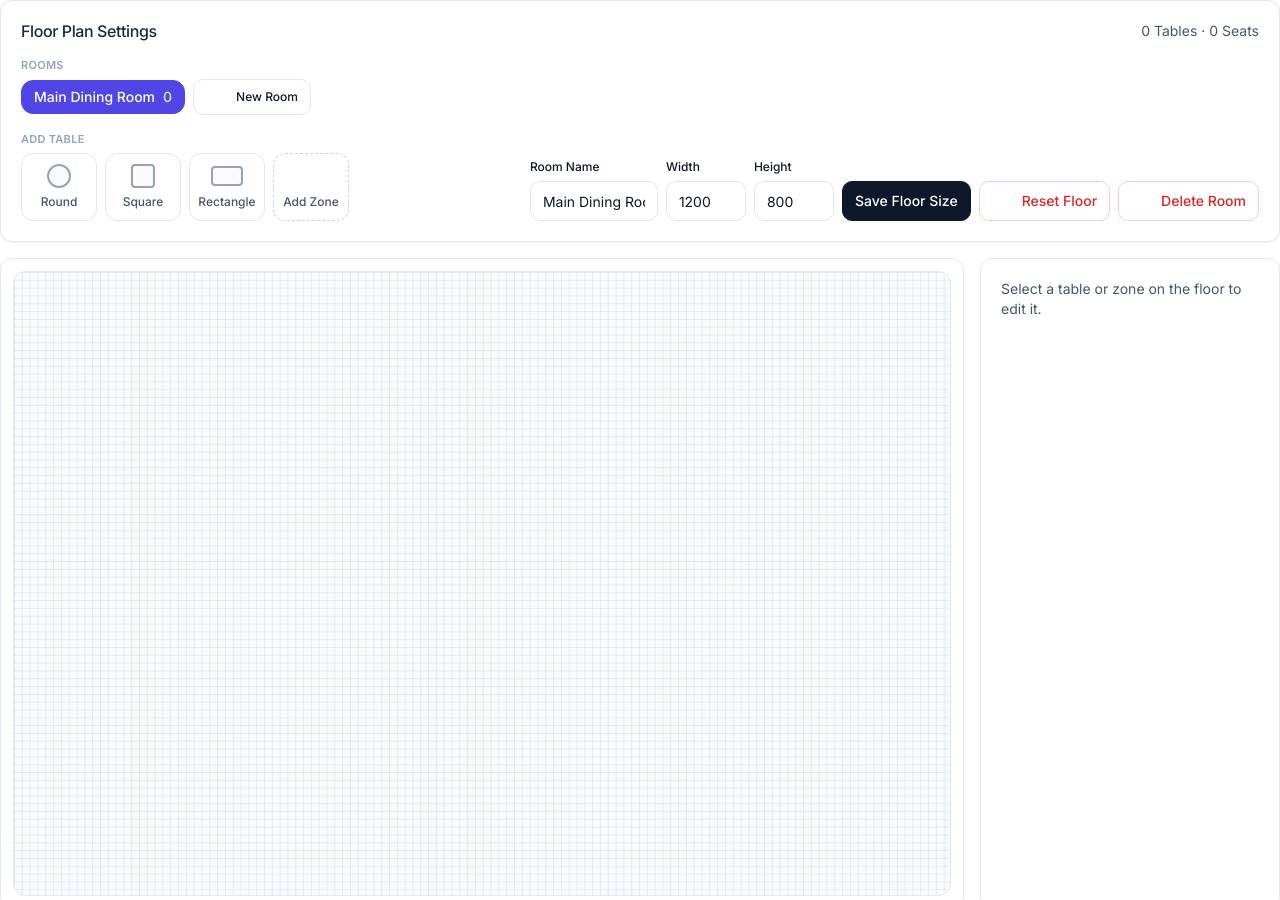
Test: rooms › renames and resizes a room together
The width and height of the screenshot is (1280, 900).
Replace the text in the field labelled "Room Name" with "Patio" at (594, 201), box [530,181,658,221]
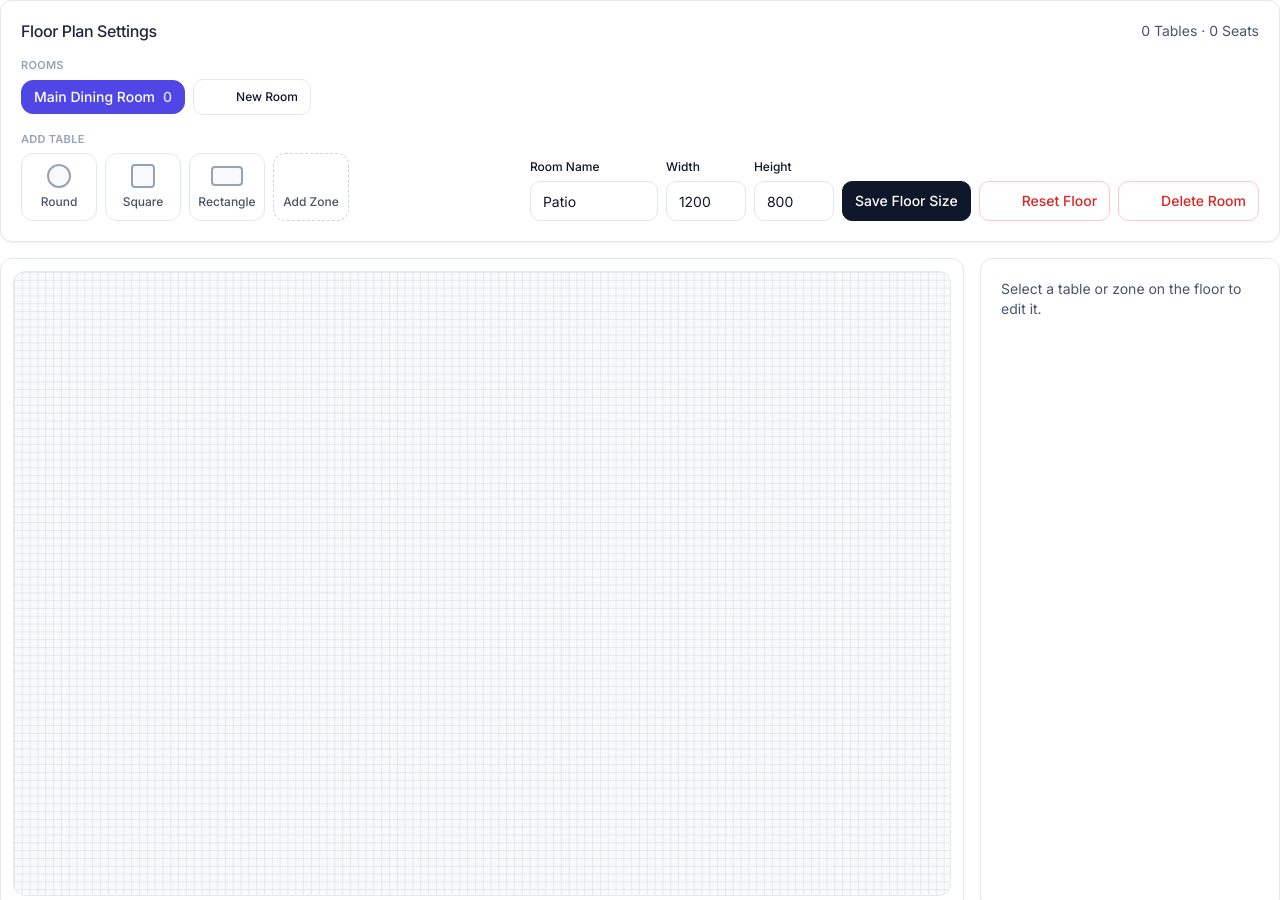
Replace the text in the number field labelled "Width" with "1400" at (706, 201), box [666,181,746,221]
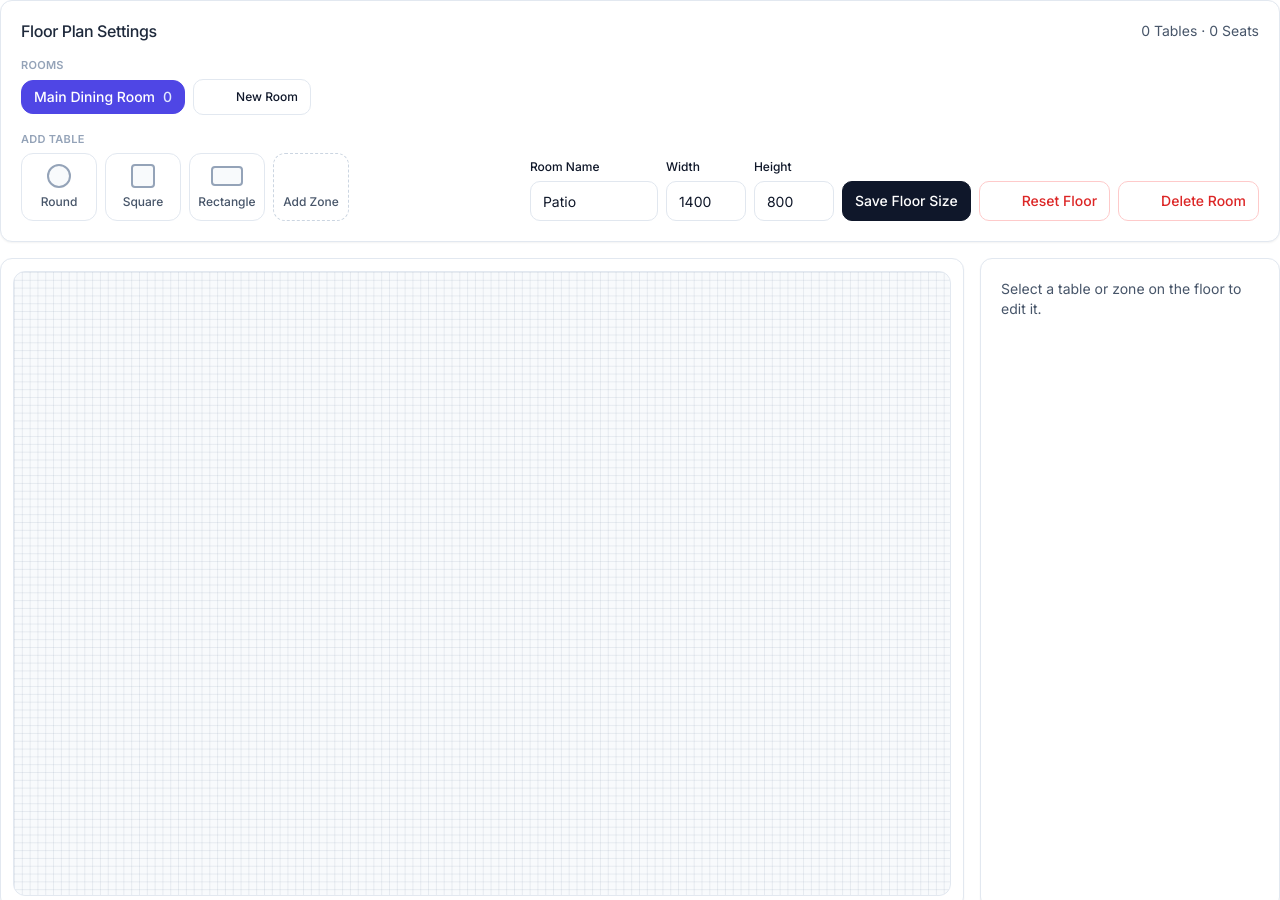
Click the button "Save Floor Size".
click(906, 201)  # box [842,181,971,221]
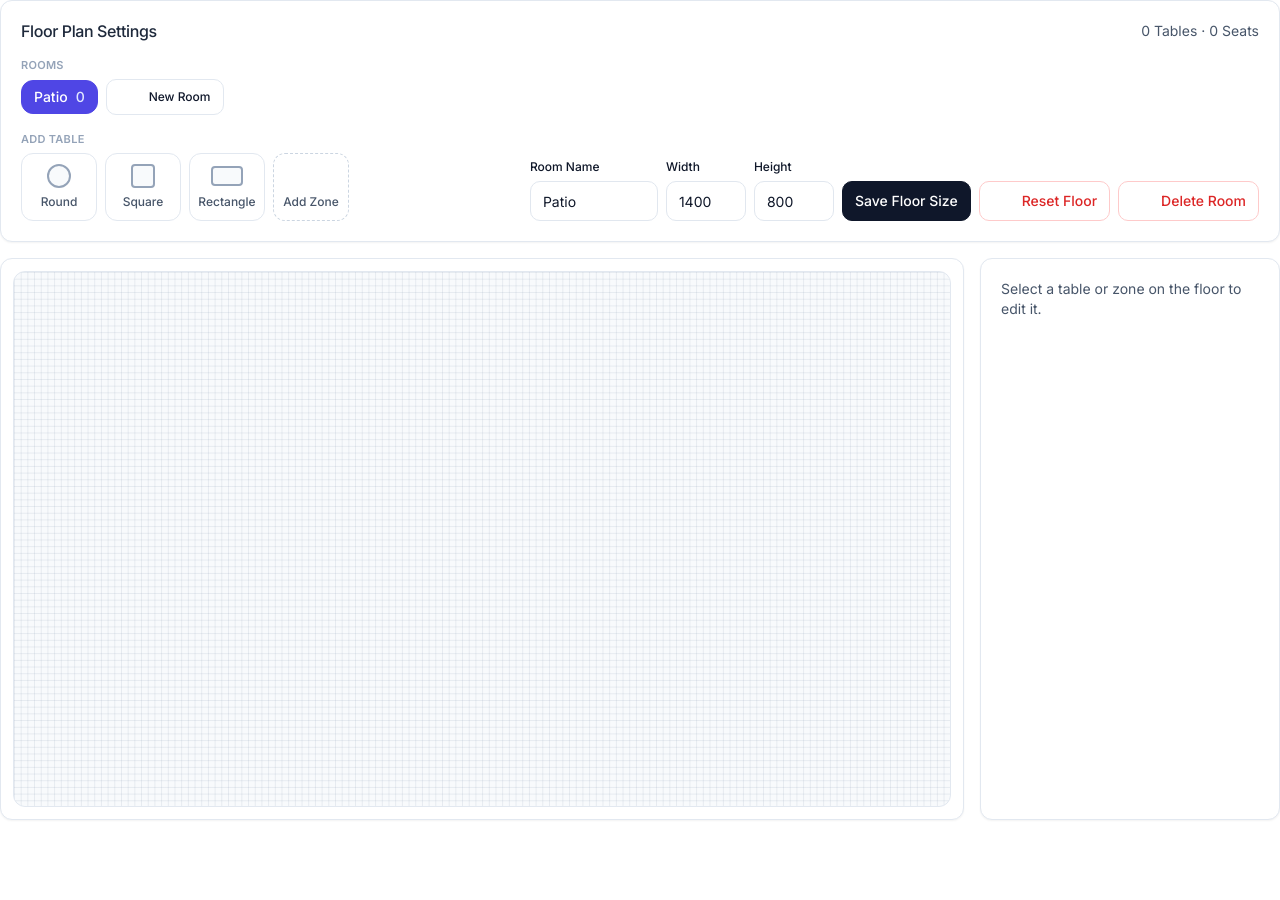
Check: the text "Patio" is shown, box [34,87,68,107]
